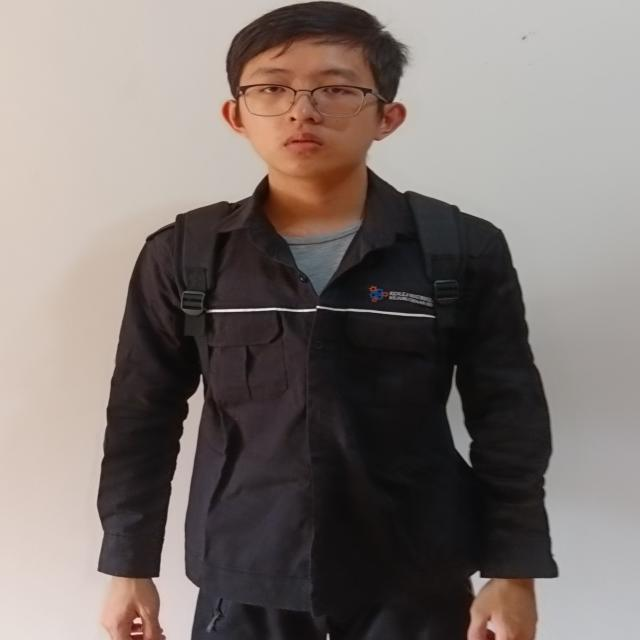person_with_labcoat: (98, 1, 557, 640)
